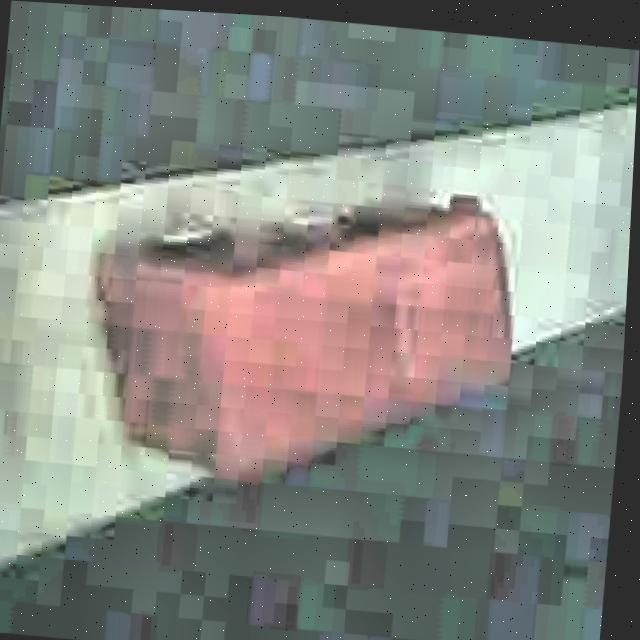bus: (73, 157, 528, 505)
